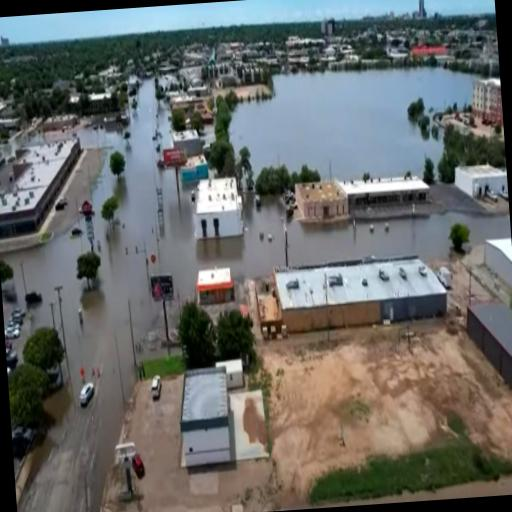flood: (5, 78, 286, 512), (229, 65, 475, 178), (286, 197, 511, 264)
house: (270, 252, 448, 342), (0, 134, 88, 251), (173, 368, 234, 478), (464, 294, 512, 409), (338, 170, 432, 228), (190, 173, 246, 246), (451, 160, 509, 210), (293, 177, 348, 229), (472, 70, 504, 134), (482, 236, 512, 290), (196, 266, 234, 308), (166, 98, 214, 128), (84, 86, 120, 123), (176, 148, 208, 186), (214, 356, 245, 394), (410, 0, 427, 25)
